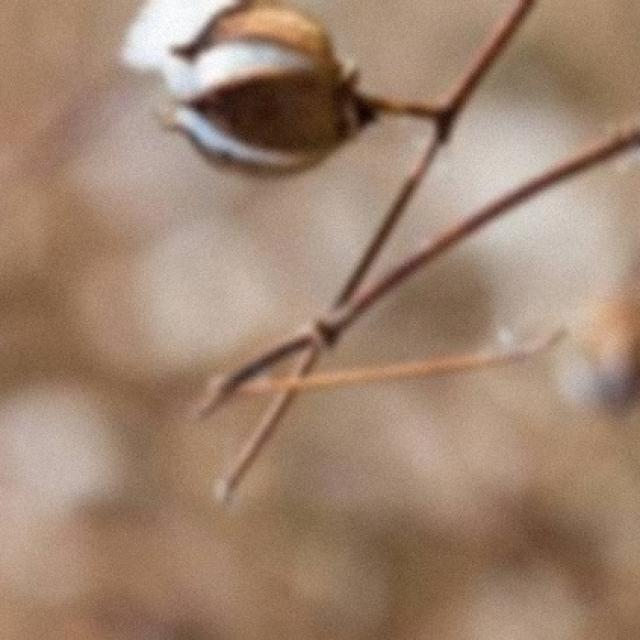Split Cotton Boll: (158, 1, 359, 180)
